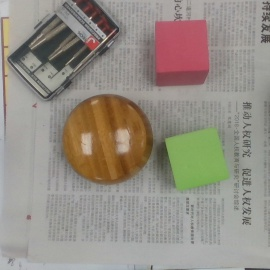chess: (62, 93, 154, 187)
